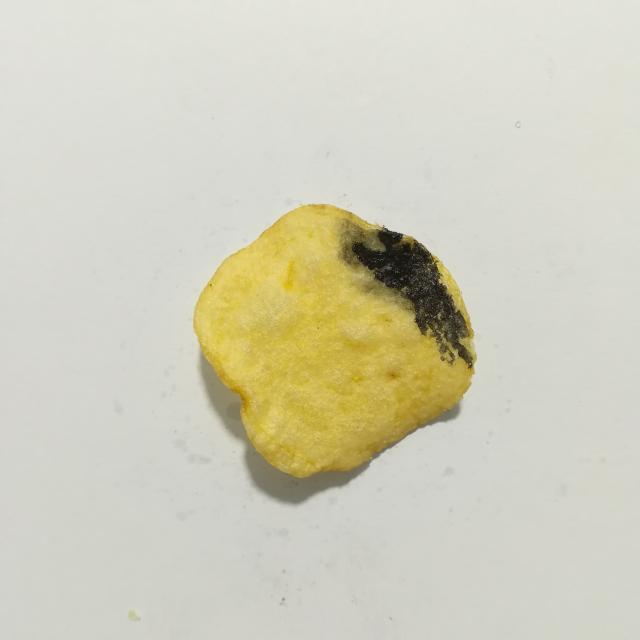chip: (194, 205, 476, 477)
damaged: (352, 228, 473, 368)
semi-damaged: (338, 218, 414, 321)
